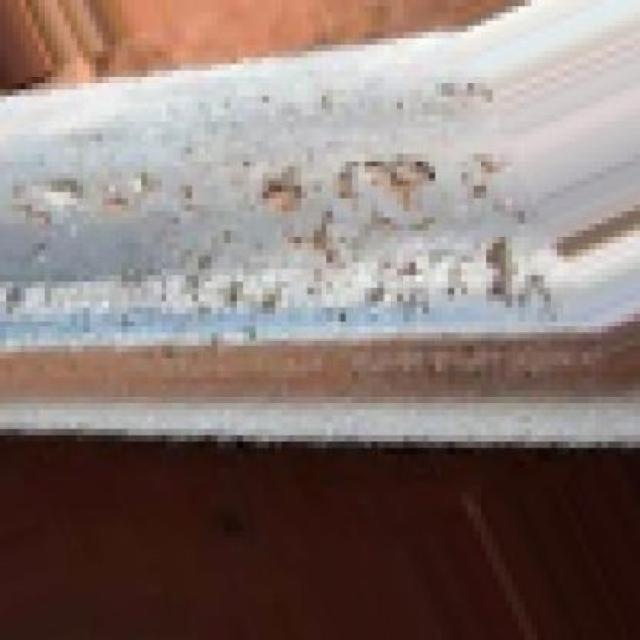defective: (6, 56, 640, 520)
